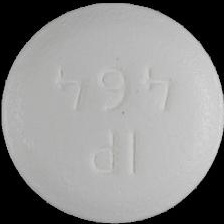53746-464: (0, 0, 224, 224)
